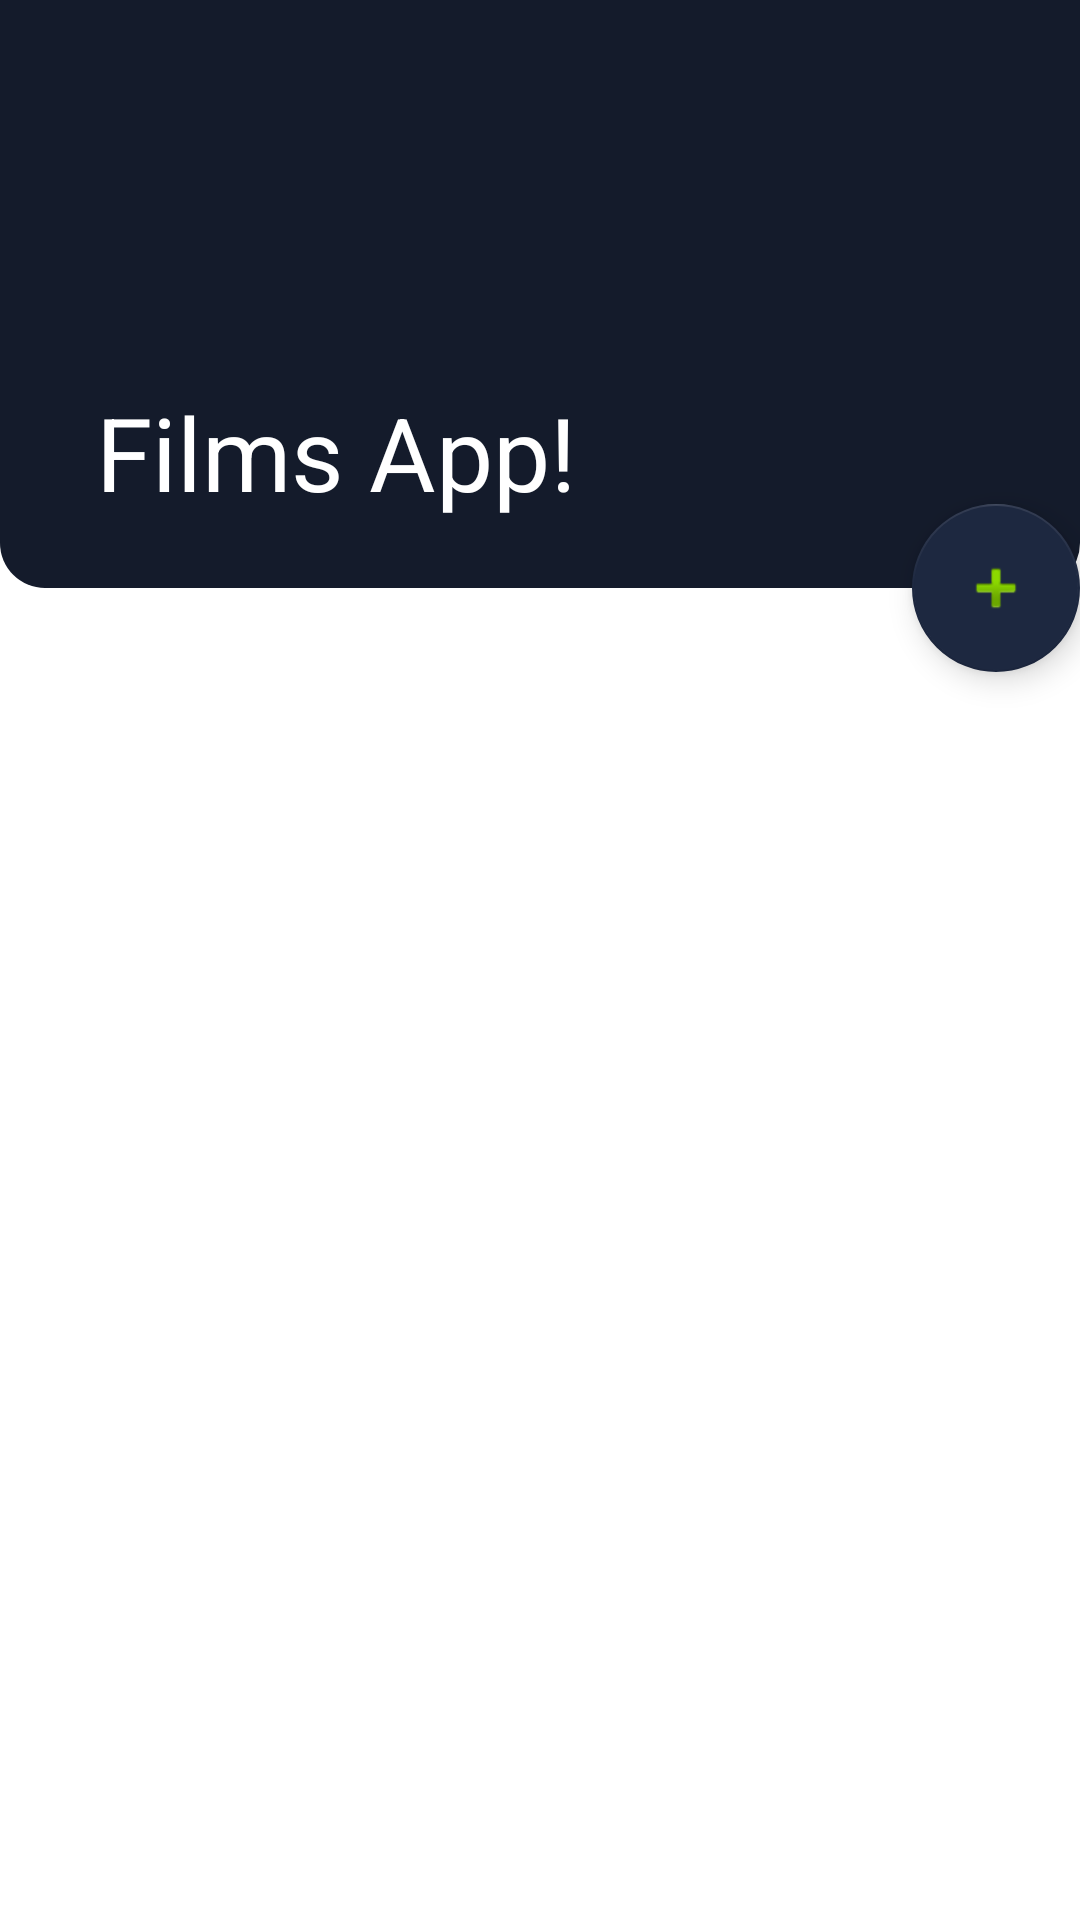

Named icons in this screenshot (1080 × 1920) and their centers, (x,y):
ADD: (996,588)
